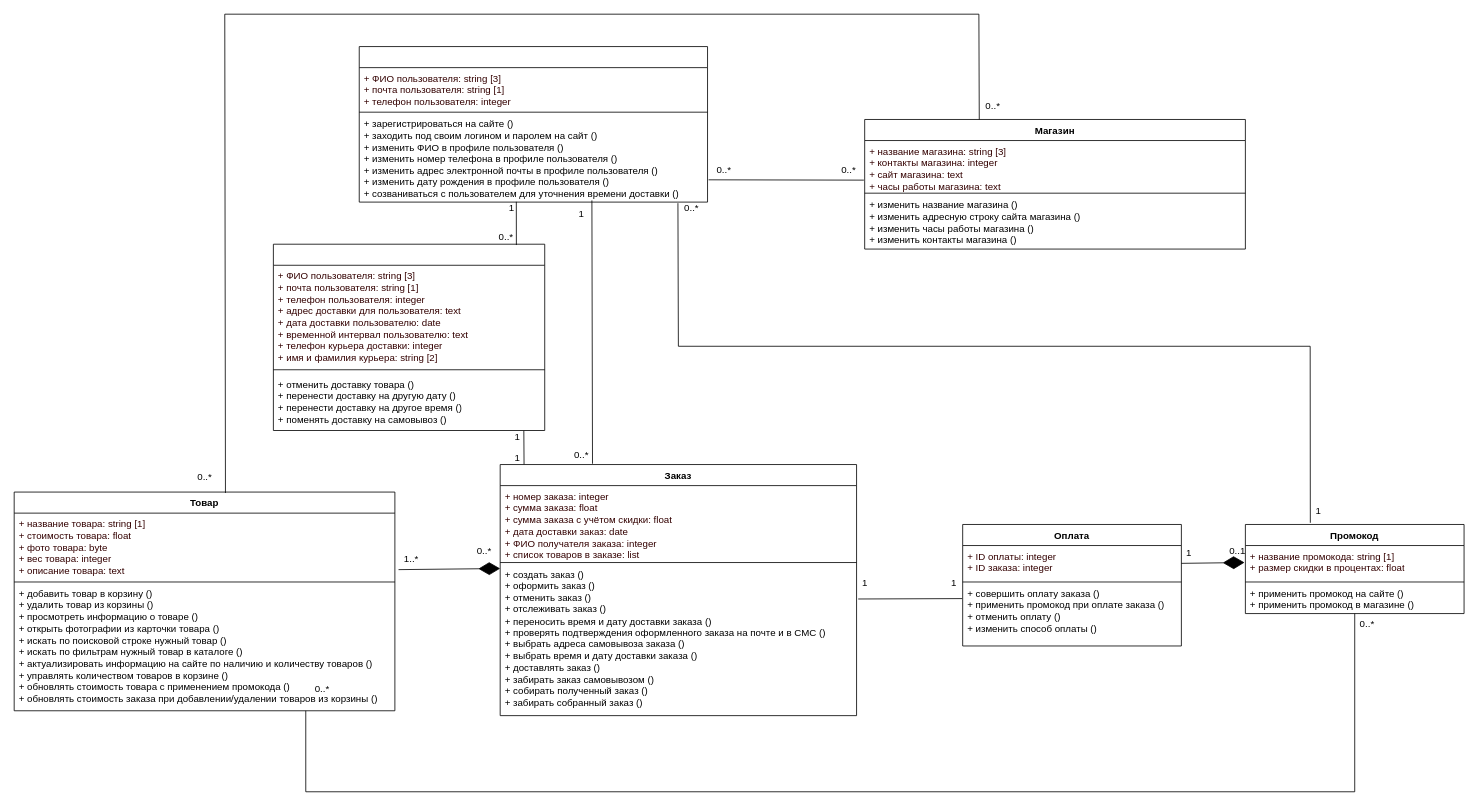
This 1478x807 diagram has some shape labels left out. Here are the shapes that lost their labels. From the top down, the box of each, then its label:
(358, 46, 708, 202): Пользователь сайта
(273, 243, 545, 431): Доставка
